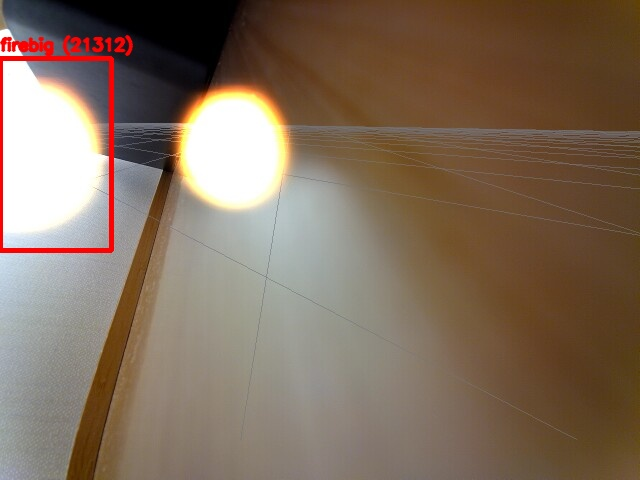firebig: (0, 58, 111, 250)
